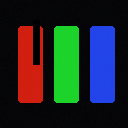4 line_v: (33, 20, 39, 64)
